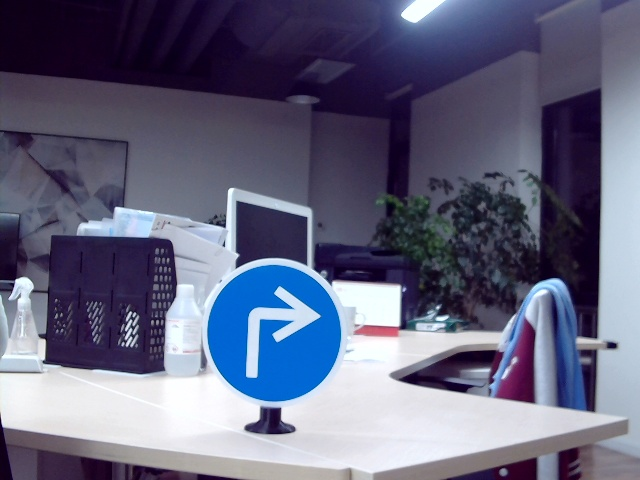turn_right: (237, 285, 319, 383)
